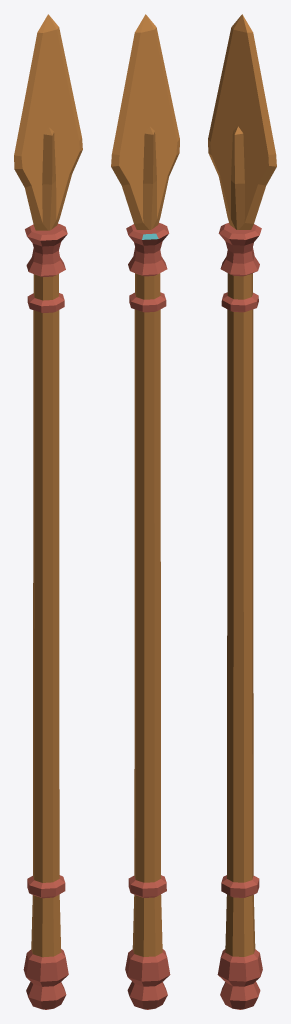
The model's file is SM_pwe_fantasy_spear_07b.fbx.
3 renders of one model, left to right at view 1: azimuth 30°, elevation 25°; view 2: azimuth 210°, elevation 25°; view 3: azimuth 330°, elevation 25°, orthographic.
Visible parts, largest first — view 1: SM_pwe_fantasy_spear_07b; view 2: SM_pwe_fantasy_spear_07b; view 3: SM_pwe_fantasy_spear_07b.
Boxes of the visible parts, x1,y1,x2,y2 form: SM_pwe_fantasy_spear_07b: (14,14,82,1009); SM_pwe_fantasy_spear_07b: (111,14,179,1009); SM_pwe_fantasy_spear_07b: (208,14,276,1009).
Bounding box in the file's own units: 13.02 × 180 × 7.66.
